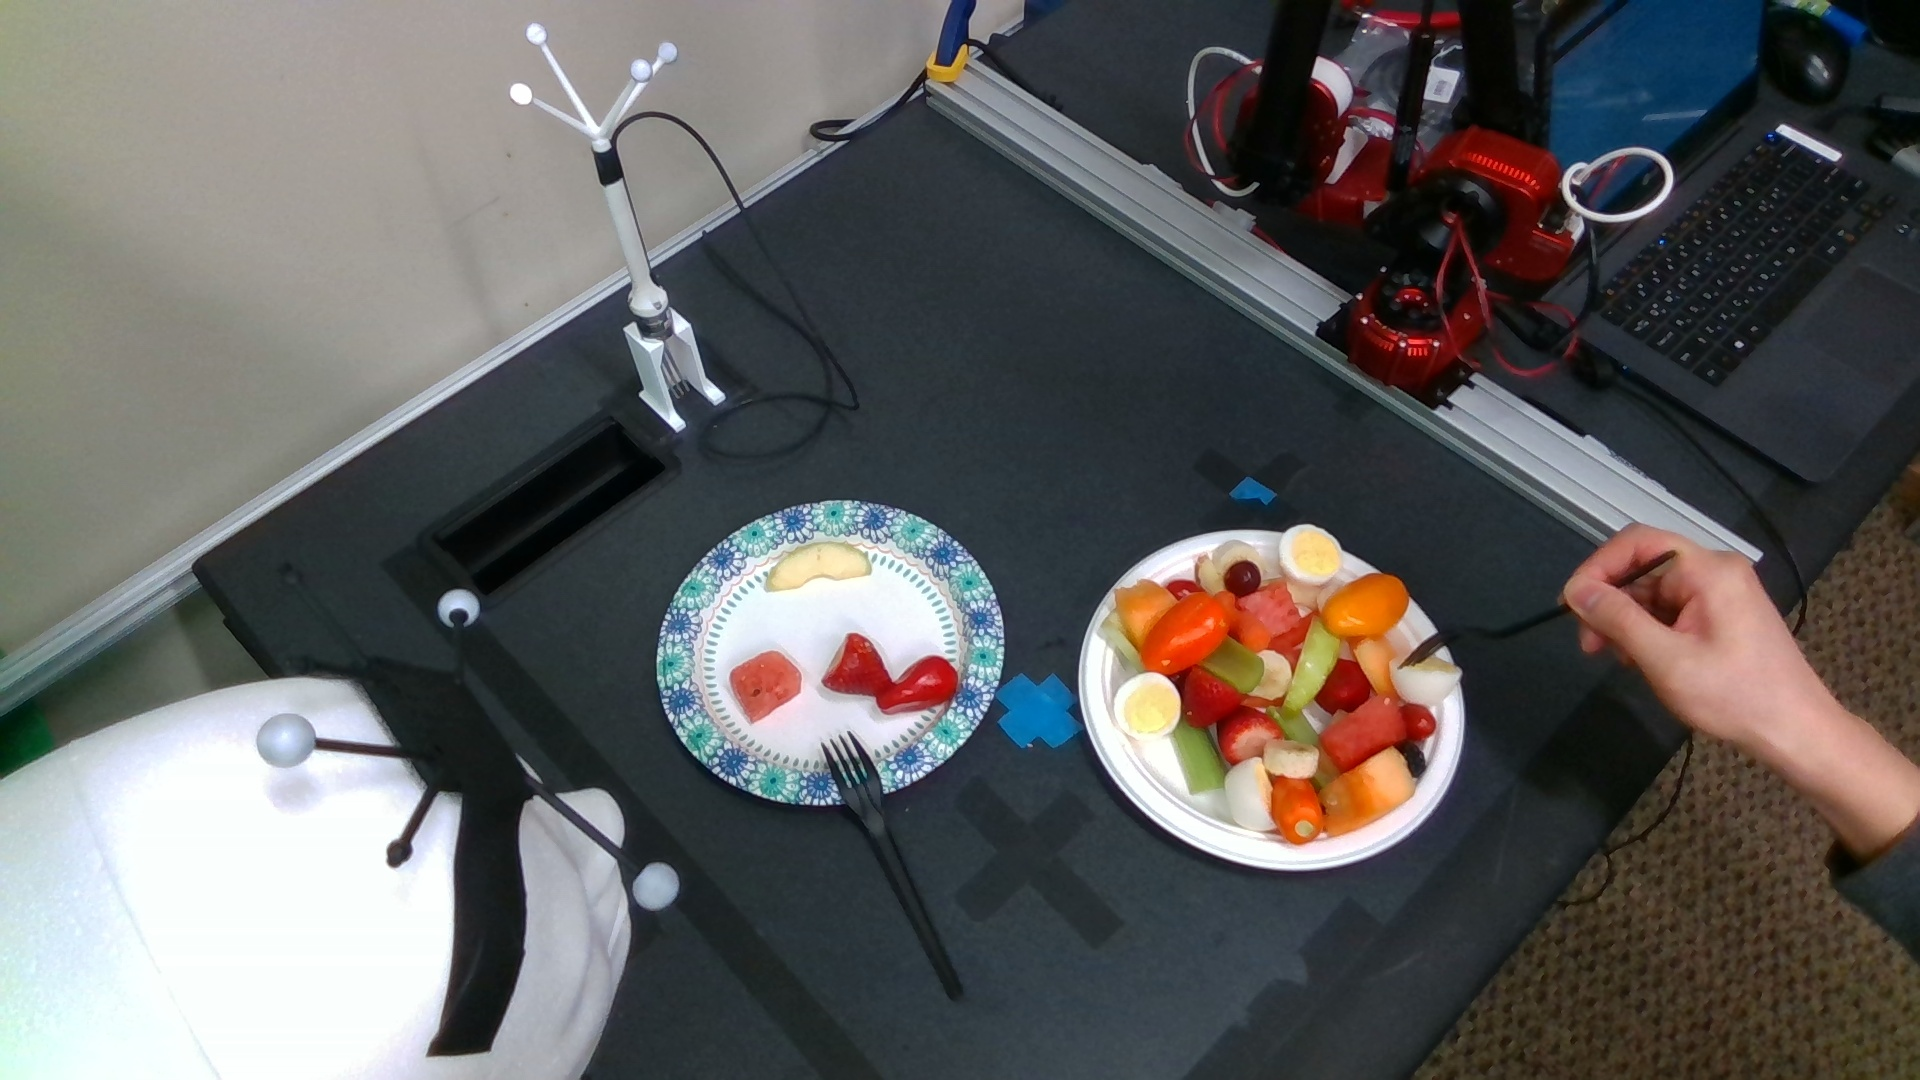apple: (764, 543, 872, 591), (1283, 617, 1338, 709)
banana: (1262, 738, 1317, 777)
bell pepper: (1145, 589, 1225, 673), (1324, 574, 1410, 640), (878, 655, 957, 713), (1274, 775, 1323, 841)
cantalope: (1327, 749, 1414, 833), (1118, 582, 1172, 647)
celery: (1205, 636, 1265, 694)
cherry tomato: (1403, 704, 1436, 738)
egg: (1114, 673, 1180, 738), (1280, 524, 1342, 584), (1225, 757, 1276, 829), (1393, 654, 1462, 705)
grape: (1224, 560, 1262, 596)
melon: (1321, 694, 1404, 773), (728, 650, 802, 725)
strawberry: (822, 632, 891, 698), (1218, 709, 1276, 762), (1183, 669, 1242, 719)
